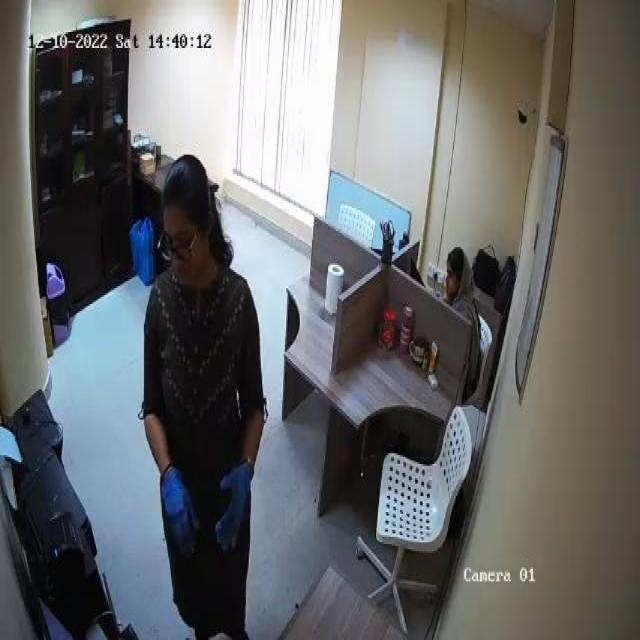gloved_hand: (213, 462, 252, 564), (160, 475, 197, 553)
